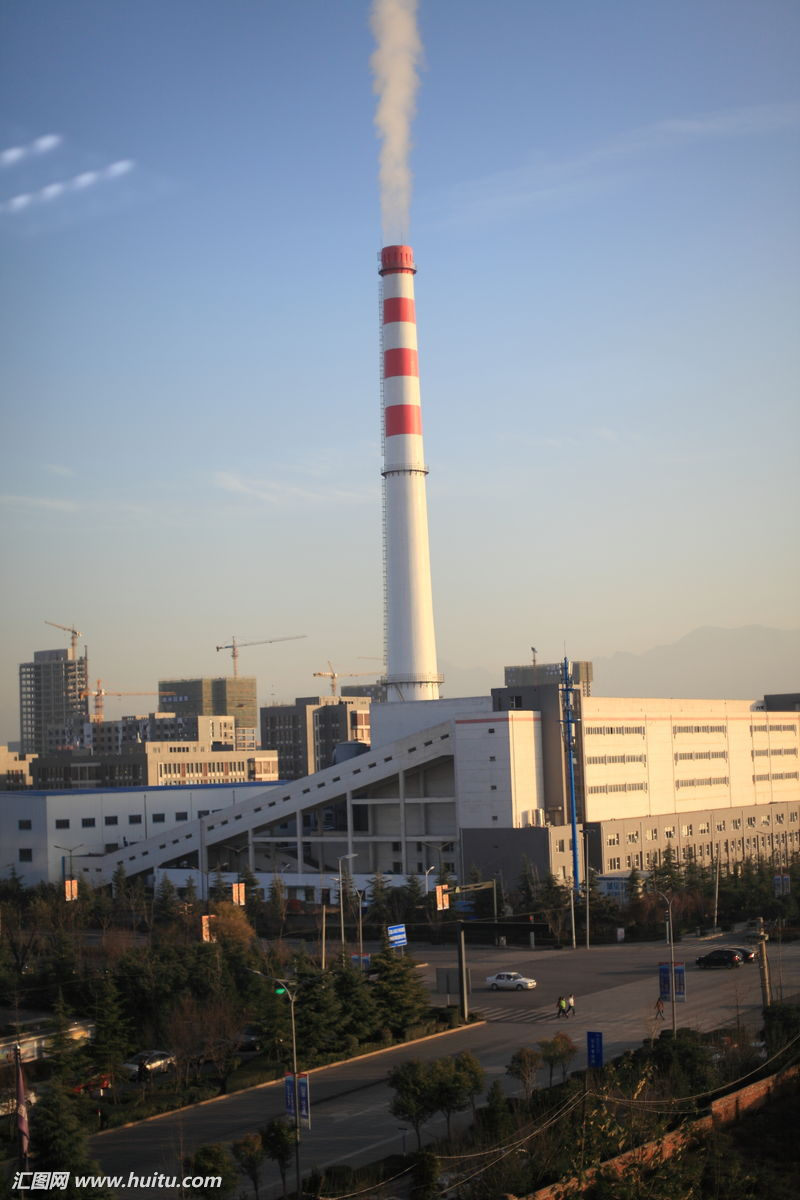dust: (350, 17, 472, 258)
